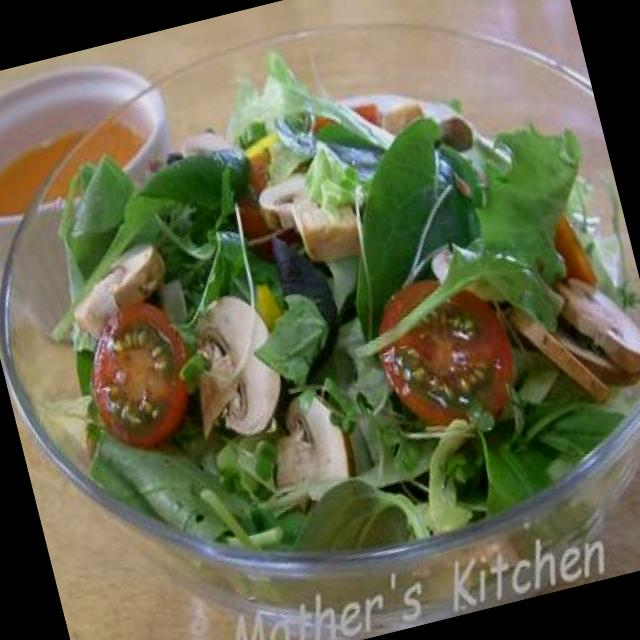Green Salad: (33, 24, 640, 587)
